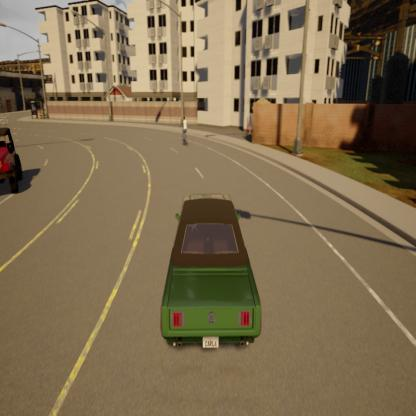Cars: (152, 185, 273, 364), (0, 123, 25, 208)
